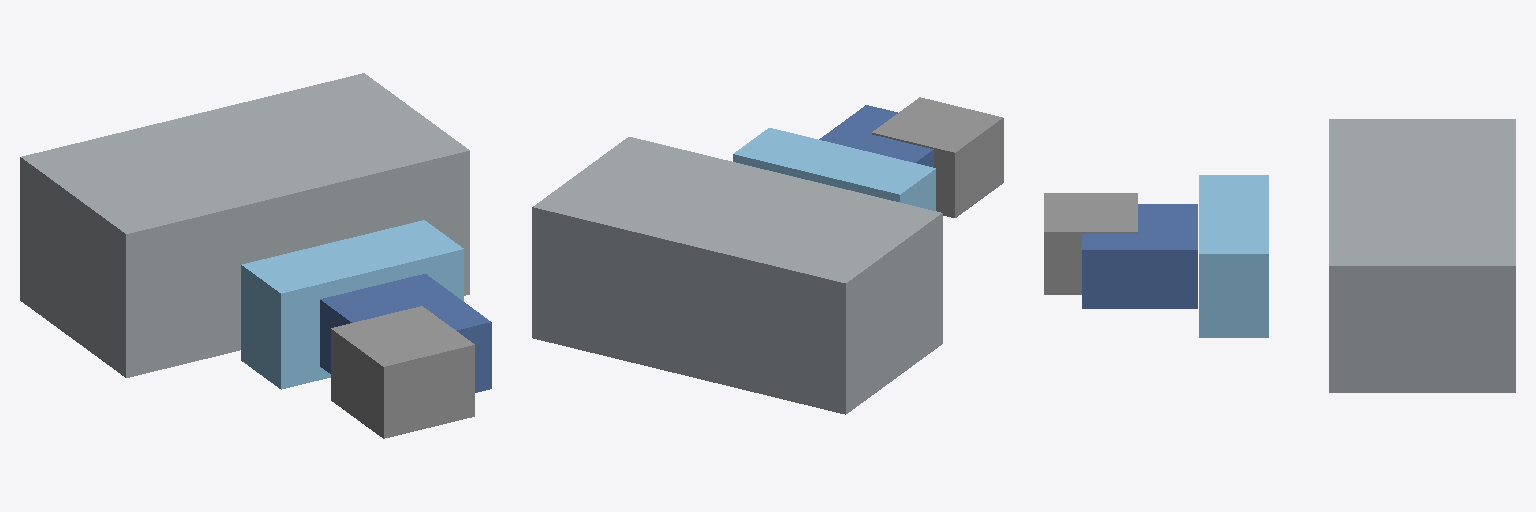
The robot description file, URDF, robot "sysID_XC430":
<?xml version="1.0" ?>
<robot name="sysID_XC430">
  <mujoco>
    <compiler strippath="false" balanceinertia="true" discardvisual="false"/>
  </mujoco>
  <link name="world">
    <inertial>
      <origin xyz="0.0 0.0 0.0" rpy="0.0 0.0 0.0"/>
      <mass value="0.0"/>
      <inertia ixx="0.0" iyy="0.0" izz="0.0" ixy="0" ixz="0" iyz="0"/>
    </inertial>
  </link>
  <link name="arm_430">
    <inertial>
      <origin xyz="0.054272 -0.0167758 0.0202686" rpy="3.14159 -1.5708 0.0"/>
      <mass value="0.0154"/>
      <inertia ixx="1.05154e-05" iyy="9.83742e-06" izz="2.81149e-06" ixy="0" ixz="0" iyz="0"/>
    </inertial>
    <visual name="arm_430_visual">
      <origin xyz="0.054272 -0.0167758 0.0202686" rpy="0.0 0.0 0.0"/>
      <geometry>
        <box size="0.08 0.03 0.04"/>
      </geometry>
      <material name="arm_430_visual_material"/>
    </visual>
    <collision name="arm_430_collision">
      <origin xyz="0.054272 -0.0167758 0.0202686" rpy="0.0 0.0 0.0"/>
      <geometry>
        <box size="0.08 0.03 0.04"/>
      </geometry>
    </collision>
  </link>
  <joint type="fixed" name="world2arm_430_fixed">
    <parent link="world"/>
    <child link="arm_430"/>
    <origin xyz="0.0 0.0 0.0" rpy="0.0 0.0 0.0"/>
  </joint>
  <link name="xc430">
    <inertial>
      <origin xyz="0.0116499 -5.78134e-06 0.01868" rpy="1.56612 -0.00445248 1.57139"/>
      <mass value="0.0686"/>
      <inertia ixx="1.9187647790057196e-05" iyy="1.6913078119693286e-05" izz="1.1273374090249531e-05" ixy="0" ixz="0" iyz="0"/>
    </inertial>
    <visual name="xc430_visual">
      <origin xyz="0.0116499 -5.78134e-06 0.01868" rpy="1.5708 -1.5708 0.0"/>
      <geometry>
        <box size="0.046 0.05 0.028"/>
      </geometry>
      <material name="xc430_visual_material"/>
    </visual>
    <collision name="xc430_collision">
      <origin xyz="0.0116499 -5.78134e-06 0.01868" rpy="1.5708 -1.5708 0.0"/>
      <geometry>
        <box size="0.046 0.05 0.028"/>
      </geometry>
    </collision>
  </link>
  <link name="joint_0_body">
    <inertial>
      <origin xyz="0.0 0.0 0.0" rpy="0.0 0.0 0.0"/>
      <mass value="0.001"/>
      <inertia ixx="1e-09" iyy="1e-09" izz="1e-09" ixy="0" ixz="0" iyz="0"/>
    </inertial>
  </link>
  <joint type="revolute" name="joint_0">
    <parent link="arm_430"/>
    <child link="joint_0_body"/>
    <origin xyz="0.035272 -0.045682 0.0202686" rpy="-1.5708 0.0 -1.5708"/>
    <axis xyz="0.0 0.0 1.0"/>
    <limit lower="-1.5707963267948113" upper="1.5707963267949818" effort="100" velocity="100"/>
  </joint>
  <joint type="fixed" name="joint_0_offset">
    <parent link="joint_0_body"/>
    <child link="xc430"/>
    <origin xyz="0.0 0.0 0.0" rpy="0.0 0.0 0.0"/>
  </joint>
  <link name="mount_xc430">
    <inertial>
      <origin xyz="-0.0286571 -0.00767536 0.0144" rpy="1.5708 0.0 -0.163567"/>
      <mass value="0.01785"/>
      <inertia ixx="1.555792417738116e-05" iyy="1.52773e-05" izz="4.375315822618842e-06" ixy="0" ixz="0" iyz="0"/>
    </inertial>
    <visual name="mount_xc430_visual">
      <origin xyz="-0.0286571 -0.00767536 0.0144" rpy="3.14159 0.0 1.5708"/>
      <geometry>
        <box size="0.04 0.04 0.03"/>
      </geometry>
      <material name="mount_xc430_visual_material"/>
    </visual>
    <collision name="mount_xc430_collision">
      <origin xyz="-0.0286571 -0.00767536 0.0144" rpy="3.14159 0.0 1.5708"/>
      <geometry>
        <box size="0.04 0.04 0.03"/>
      </geometry>
    </collision>
  </link>
  <joint type="fixed" name="xc4302mount_xc430_fixed">
    <parent link="xc430"/>
    <child link="mount_xc430"/>
    <origin xyz="0.004 -0.01425 0.013" rpy="1.5708 4.44089e-16 -3.14159"/>
  </joint>
  <link name="load_large">
    <inertial>
      <origin xyz="-0.0458128 -0.0103659 -0.0717994" rpy="-0.00102956 0.000218755 1.57077"/>
      <mass value="0.54323"/>
      <inertia ixx="0.0009930280285788214" iyy="0.0006564962688403119" izz="0.0004025717025808656" ixy="0" ixz="0" iyz="0"/>
    </inertial>
    <visual name="load_large_visual">
      <origin xyz="-0.0458128 -0.0103659 -0.0717994" rpy="-1.5708 -1.55431e-15 -3.14159"/>
      <geometry>
        <box size="0.15 0.08 0.06"/>
      </geometry>
      <material name="load_large_visual_material"/>
    </visual>
    <collision name="load_large_collision">
      <origin xyz="-0.0458128 -0.0103659 -0.0717994" rpy="-1.5708 -1.55431e-15 -3.14159"/>
      <geometry>
        <box size="0.15 0.08 0.06"/>
      </geometry>
    </collision>
  </link>
  <joint type="fixed" name="arm_4302load_large_fixed">
    <parent link="arm_430"/>
    <child link="load_large"/>
    <origin xyz="0.008272 -0.007682 0.0102686" rpy="-1.5708 -1.11022e-15 -3.14159"/>
  </joint>
  <material name="arm_430_visual_material">
    <color rgba="0.615686 0.811765 0.929412 1"/>
  </material>
  <material name="xc430_visual_material">
    <color rgba="0.396033 0.508784 0.711268 1"/>
  </material>
  <material name="mount_xc430_visual_material">
    <color rgba="0.647059 0.647059 0.647059 1"/>
  </material>
  <material name="load_large_visual_material">
    <color rgba="0.699747 0.72503 0.736949 1"/>
  </material>
</robot>

--- Render facts (derived) ---
The picture shows the robot from 3 angles, left to right: view 1: azimuth 30°, elevation 25°; view 2: azimuth 150°, elevation 25°; view 3: azimuth 270°, elevation 25°; orthographic projection.
Robot: sysID_XC430 — 6 links, 5 joints (1 revolute, 4 fixed); root link world; default pose: all joints at 0.
Visible links, largest first — view 1: load_large, arm_430, mount_xc430, xc430; view 2: load_large, mount_xc430, arm_430, xc430; view 3: load_large, arm_430, xc430, mount_xc430.
Link boxes in pixels (box(x1,y1,x2,y2)): load_large: box(20, 73, 469, 377); arm_430: box(241, 220, 463, 389); mount_xc430: box(331, 306, 474, 438); xc430: box(320, 274, 491, 392); load_large: box(532, 137, 942, 414); mount_xc430: box(872, 97, 1003, 217); arm_430: box(733, 128, 935, 210); xc430: box(819, 105, 933, 167); load_large: box(1329, 119, 1515, 392); arm_430: box(1199, 175, 1268, 337); xc430: box(1082, 204, 1197, 308); mount_xc430: box(1044, 193, 1137, 294).
Size in the robot's own frame: 0.15 by 0.2025 by 0.06 metres.
Geometry: primitives only (box / cylinder / sphere), no mesh files.
